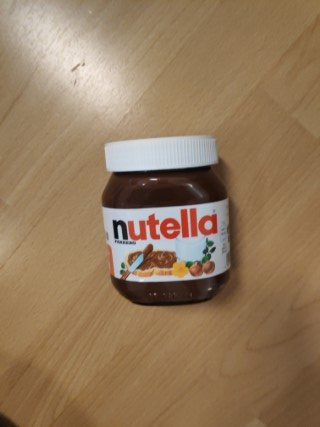nutella: (98, 132, 233, 307)
